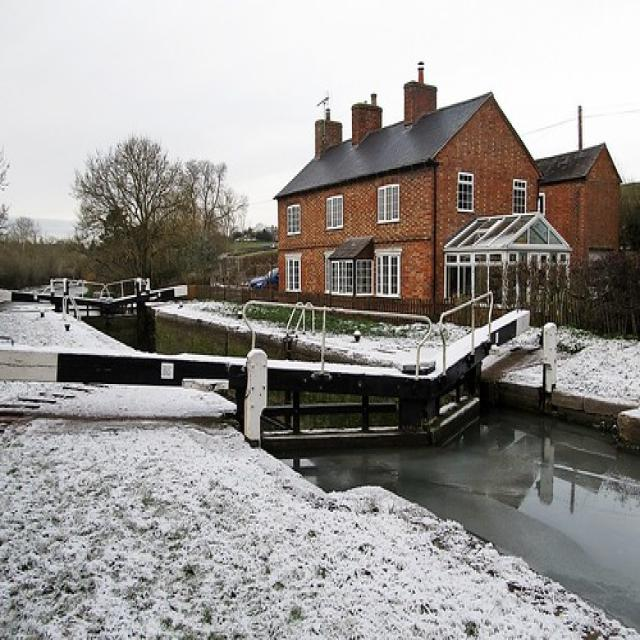building: (270, 70, 626, 326), (444, 212, 572, 310)
